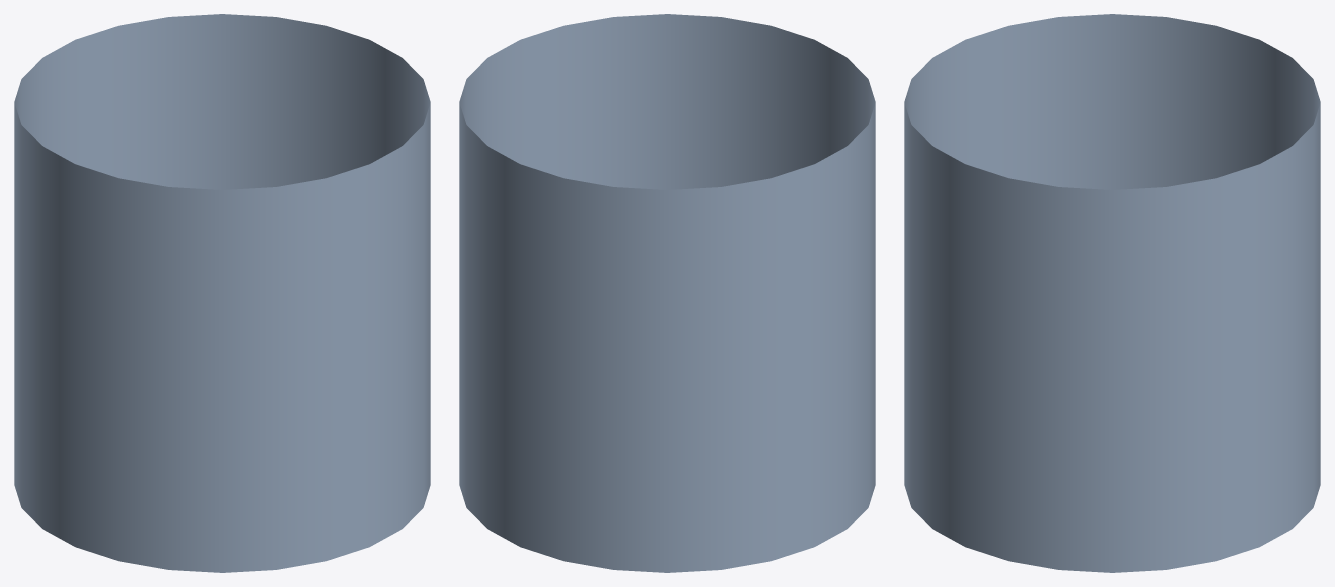
Rendered from original-37.obj.
3 renders of one model, left to right at view 1: azimuth 30°, elevation 25°; view 2: azimuth 150°, elevation 25°; view 3: azimuth 270°, elevation 25°, orthographic.
Visible parts, largest first — view 1: #ID167; view 2: #ID167; view 3: #ID167.
Part boxes in pixels (box(x1,y1,x2,y2)): #ID167: box(14, 14, 430, 572); #ID167: box(459, 14, 875, 572); #ID167: box(904, 14, 1320, 572).
Size of the model in its own units: 0.0192 by 0.0195 by 0.0192.
